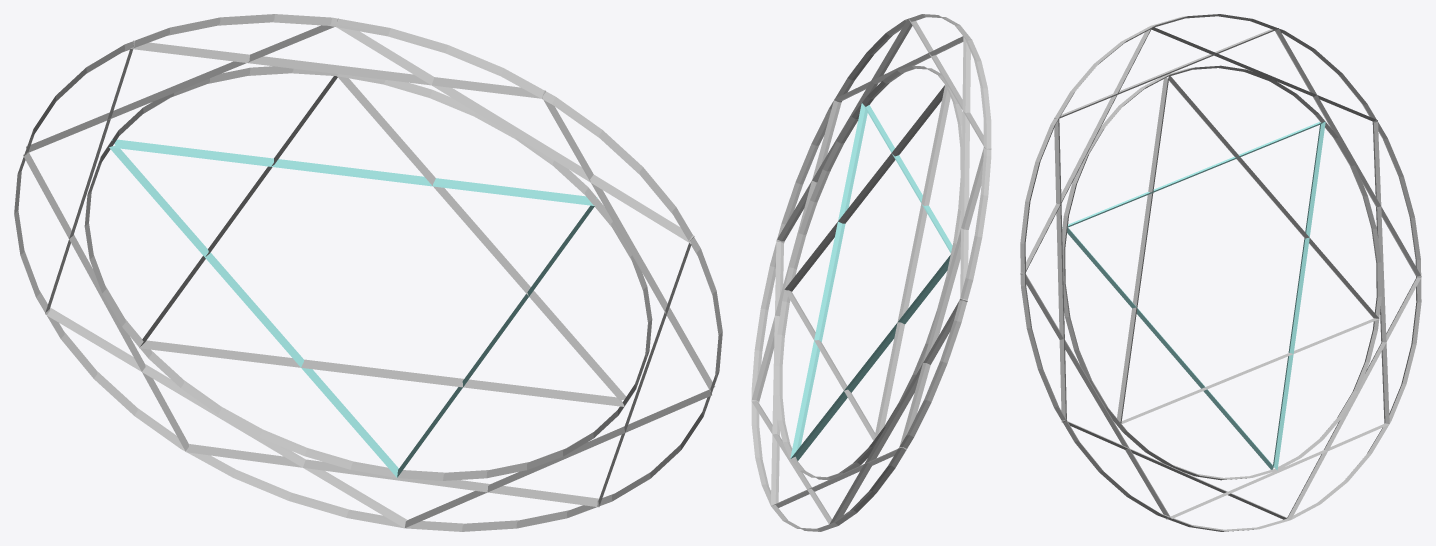
Rendered from mahou.obj.
3 renders of one model, left to right at view 1: azimuth 30°, elevation 25°; view 2: azimuth 150°, elevation 25°; view 3: azimuth 270°, elevation 25°, orthographic. The views are drawn at different scales.
Parts seen in each view (by area): view 1: 魔法陣; view 2: 魔法陣; view 3: 魔法陣.
Part boxes in pixels (box(x1,y1,x2,y2)): 魔法陣: box(14, 14, 722, 531); 魔法陣: box(751, 14, 991, 531); 魔法陣: box(1020, 14, 1421, 531).
Bounding box in the file's own units: 0.9439 × 1.17 × 0.9682.
3 materials, 1 textured.
